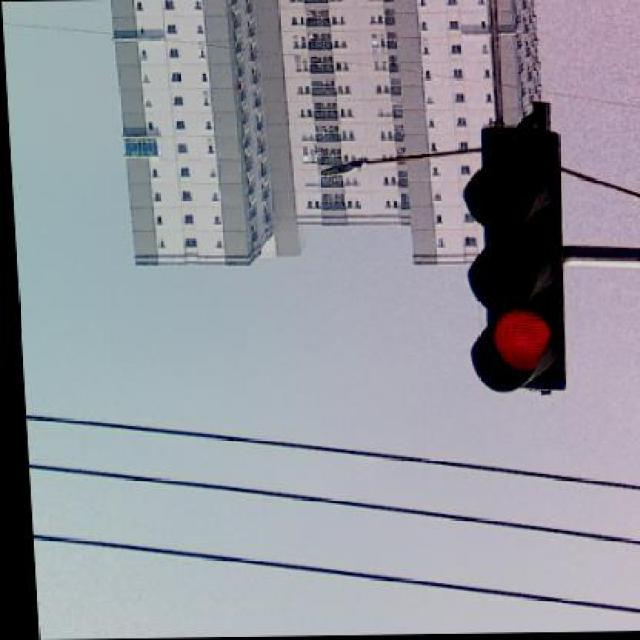traffic light: (463, 126, 566, 395)
